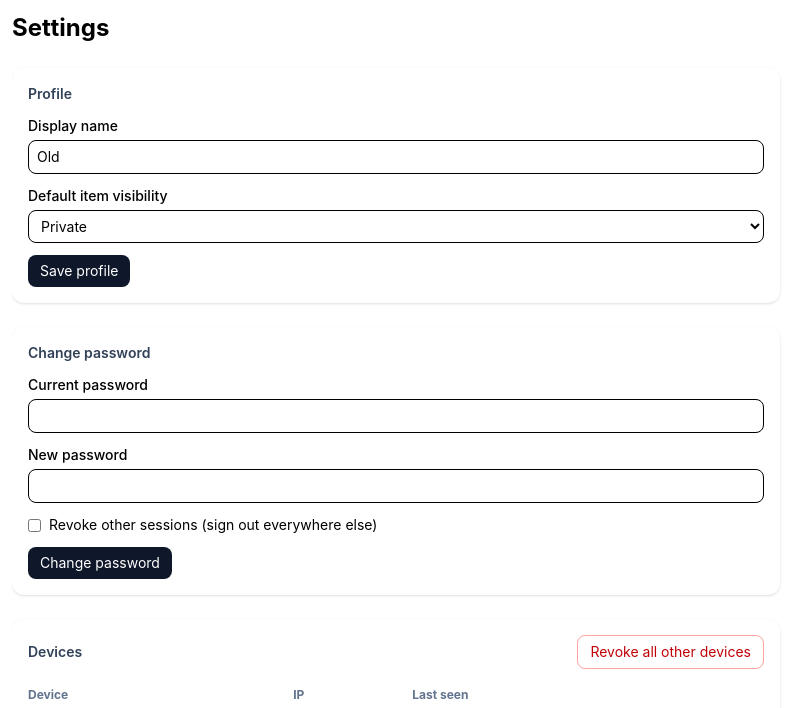
Test: SettingsView › 400 invalid_current_password surfaces inline at the current-password field and as a toast
Type "wrong" into the password field labelled "Current password".
click(396, 416); type("wrong")  # box [28,399,764,433]
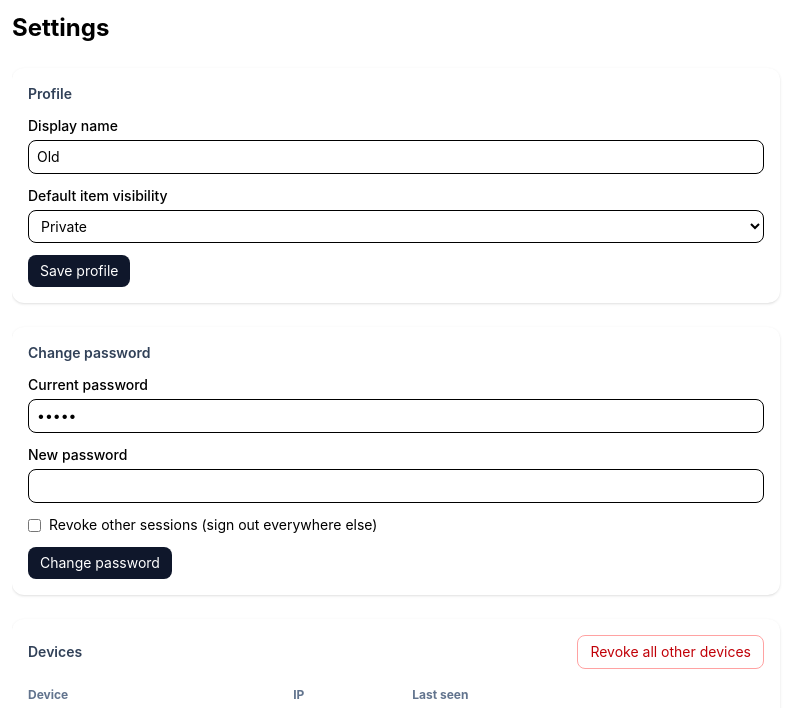
Type "hunter2hunter2" into the password field labelled "New password".
click(396, 486); type("hunter2hunter2")  # box [28,469,764,503]
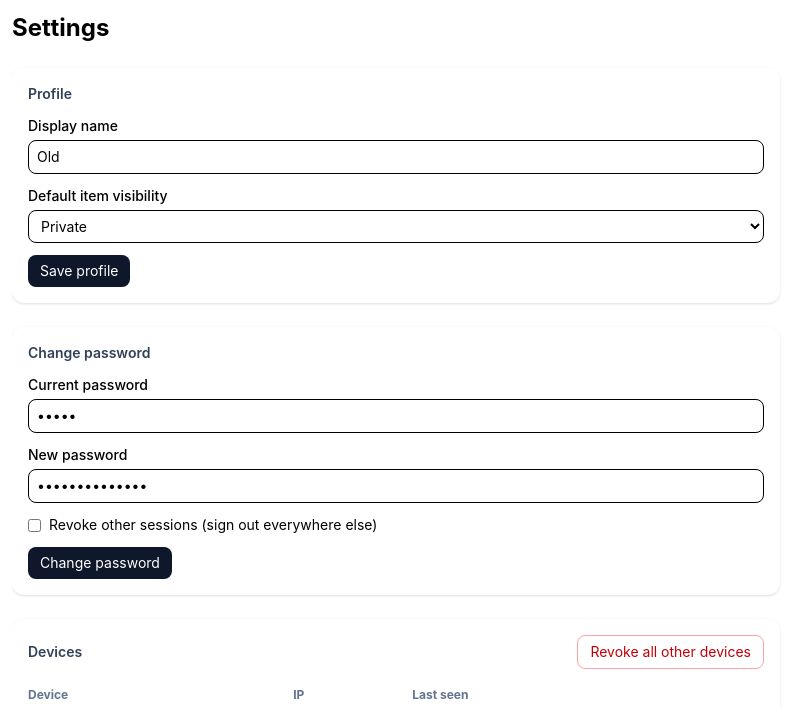
Submit the form that starts with "Change password", box [12,327,780,595]
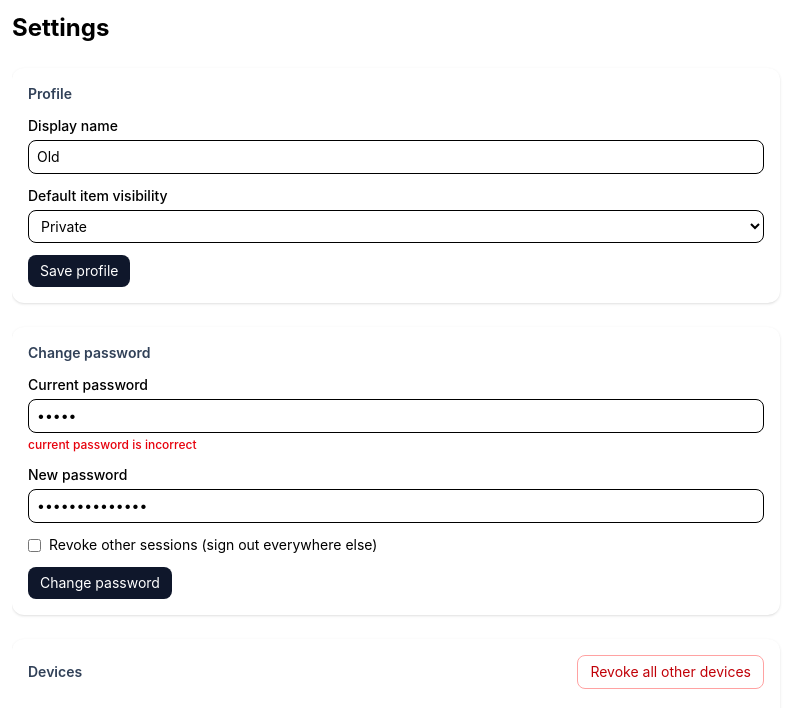
expect the text "current password is incorrect" is shown: met, box [28,437,197,452]
